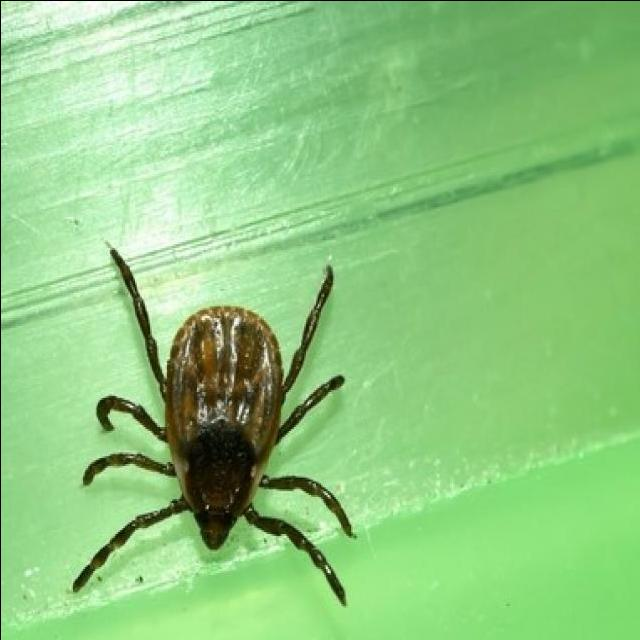Rhipicephalus Sanguineus-F: (70, 251, 354, 605)
